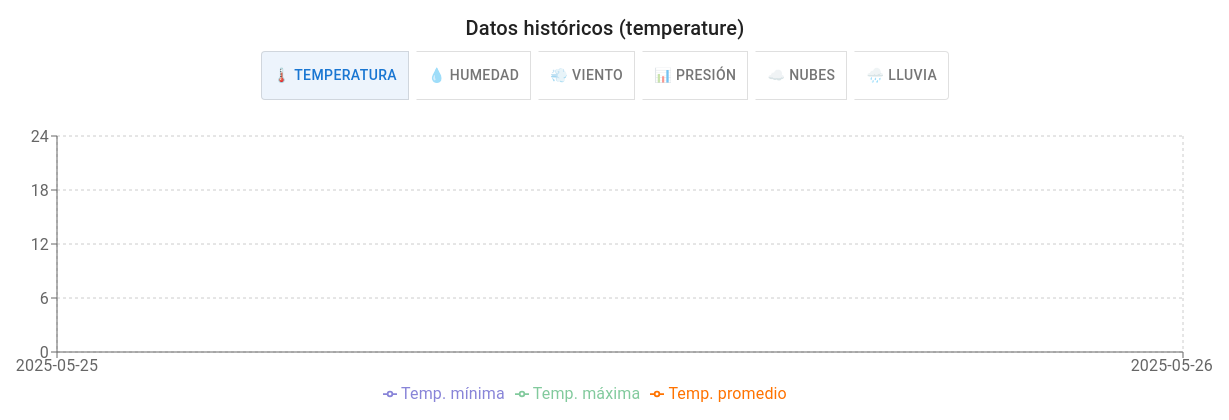
Scenario: WeatherChart › cambia a Humedad al hacer click en el botón
Click the button "💧 Humedad" at (474, 75), box [416,51,531,100]
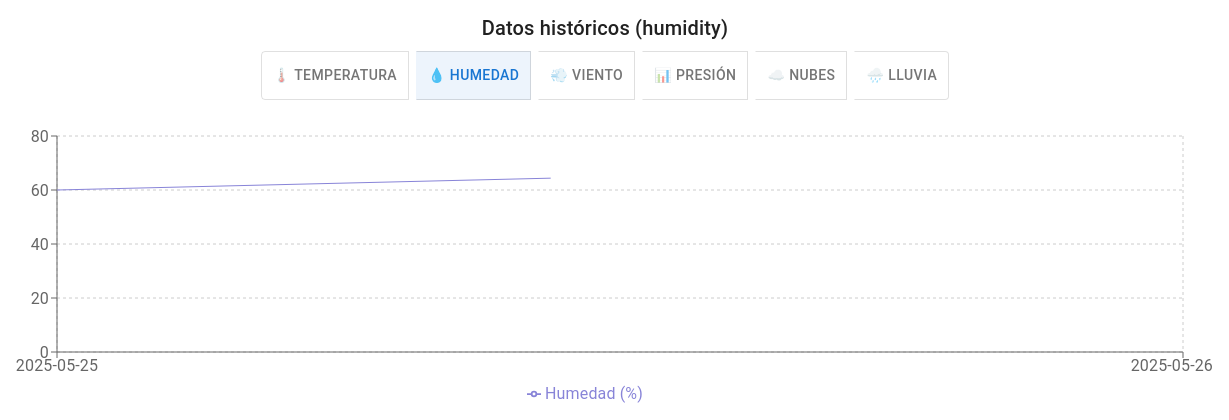
Expected: the heading "Datos históricos (humidity)" is shown, [482,16,728,40]
